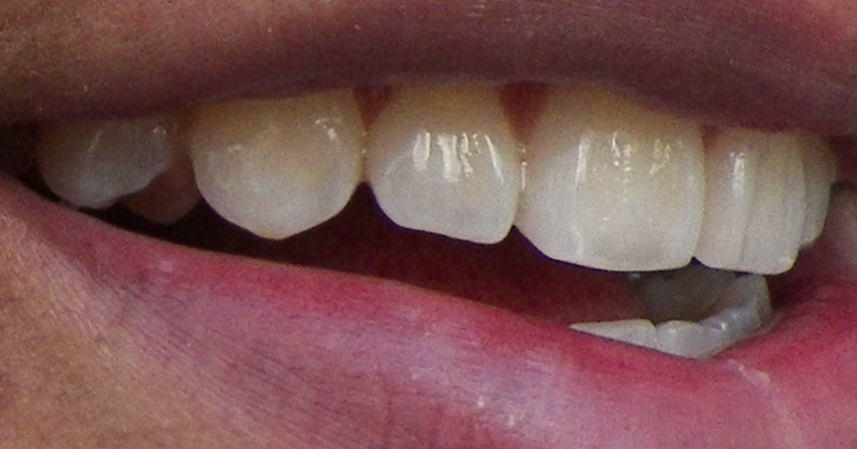boca: (32, 93, 834, 364)
